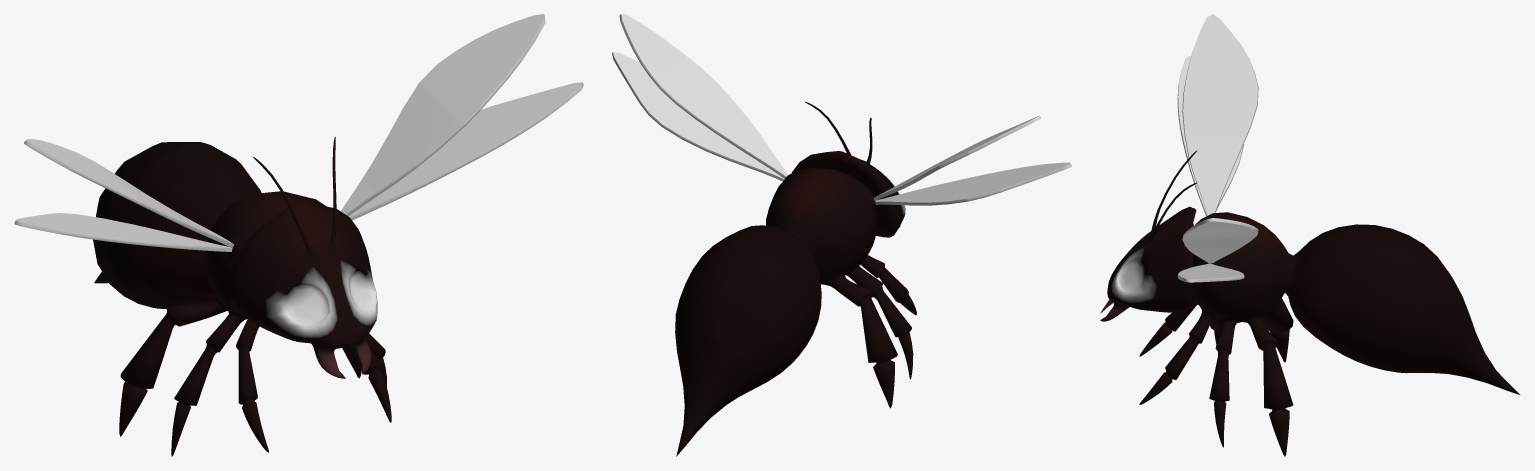
Rendered from Bee_Smol_lp.fbx.
3 renders of one model, left to right at view 1: azimuth 30°, elevation 25°; view 2: azimuth 150°, elevation 25°; view 3: azimuth 270°, elevation 25°, orthographic. The views are drawn at different scales.
Visible parts, largest first — view 1: Bee_Smol; view 2: Bee_Smol; view 3: Bee_Smol.
Part boxes in pixels (left/top/right/bottom): Bee_Smol: left=14, top=14, right=583, bottom=456; Bee_Smol: left=612, top=14, right=1071, bottom=456; Bee_Smol: left=1100, top=14, right=1519, bottom=456.
Size of the model in its own units: 82.58 by 50.4 by 65.43.
